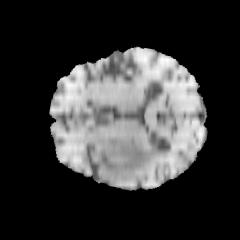glioma: (96, 135, 162, 182)
